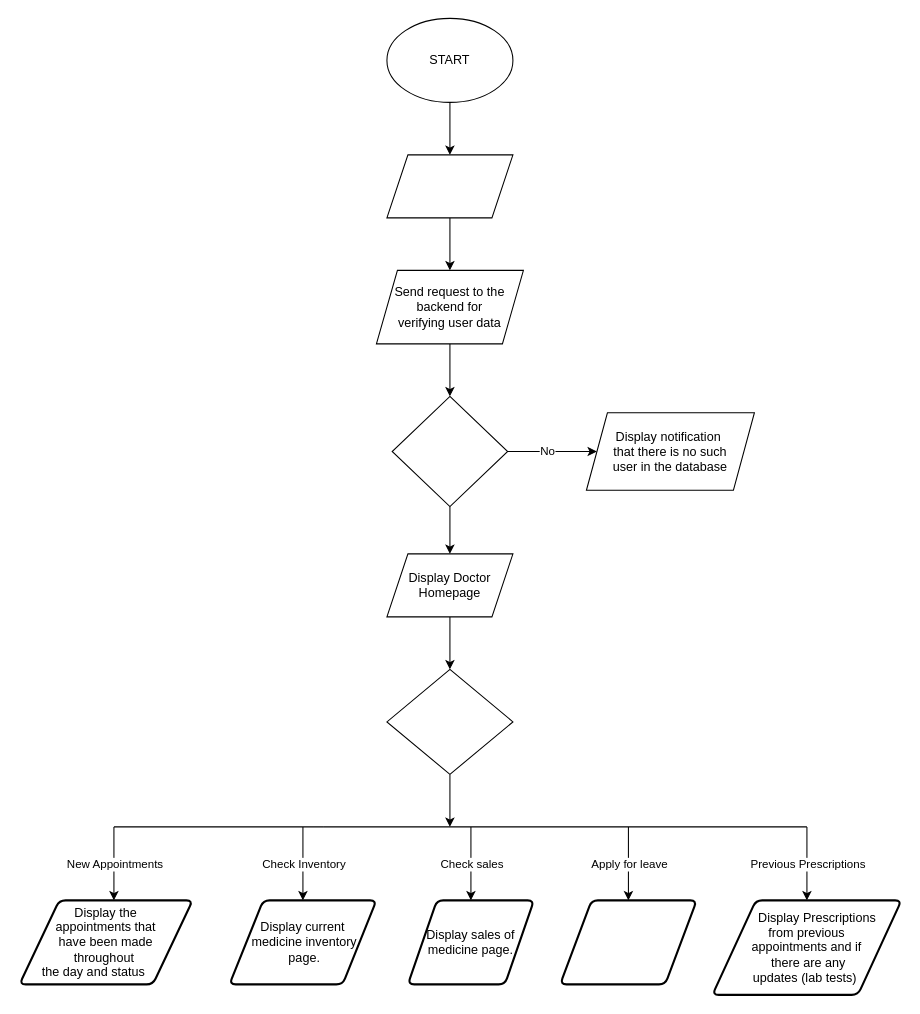
The diagram is 920 pixels wide and 1014 high, and some of its shapes have lost their labels. The shapes that lost their labels are listed below. From the top down, each one's centre as x and y in pixels, then its label:
At (x=449, y=186): "Display Doctor Login Page".
At (x=449, y=451): "Is the response valid?".
At (x=449, y=721): "Option Selection".
At (x=628, y=942): "Display apply for leave page.".
